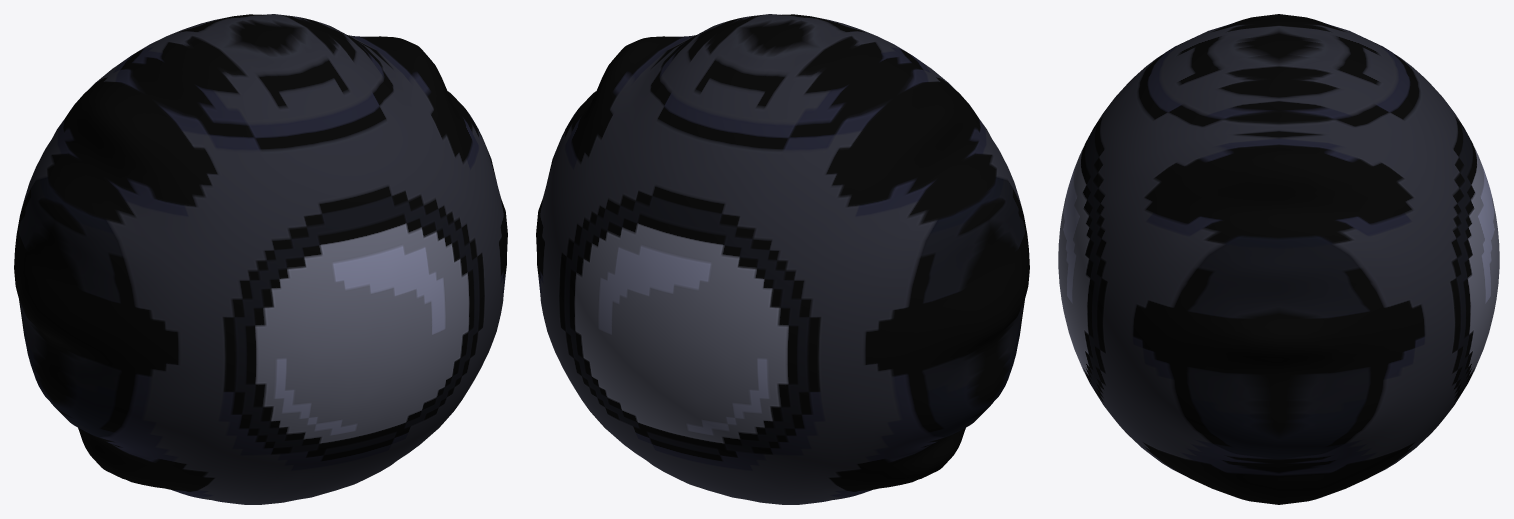
File: seabird.fbx
The picture shows the model from 3 angles, left to right: view 1: azimuth 30°, elevation 25°; view 2: azimuth 150°, elevation 25°; view 3: azimuth 270°, elevation 25°; orthographic projection. The views are drawn at different scales.
Visible parts, largest first — view 1: Mesh_0; view 2: Mesh_0; view 3: Mesh_0.
Boxes of the visible parts, <box> form: Mesh_0: <box>14,14,507,504</box>; Mesh_0: <box>536,14,1029,504</box>; Mesh_0: <box>1058,14,1499,504</box>.
Bounding box in the file's own units: 359 × 342 × 316.
1 material, 1 textured.
